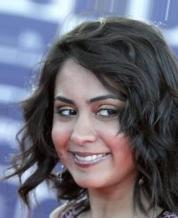face: (55, 93, 124, 167)
